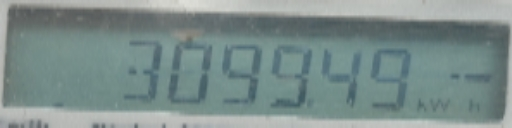0: (169, 34, 212, 106)
3: (121, 34, 164, 106)
4: (322, 41, 365, 113)
9: (219, 37, 262, 109), (271, 39, 314, 111), (370, 41, 413, 113)
d: (306, 98, 318, 112)
